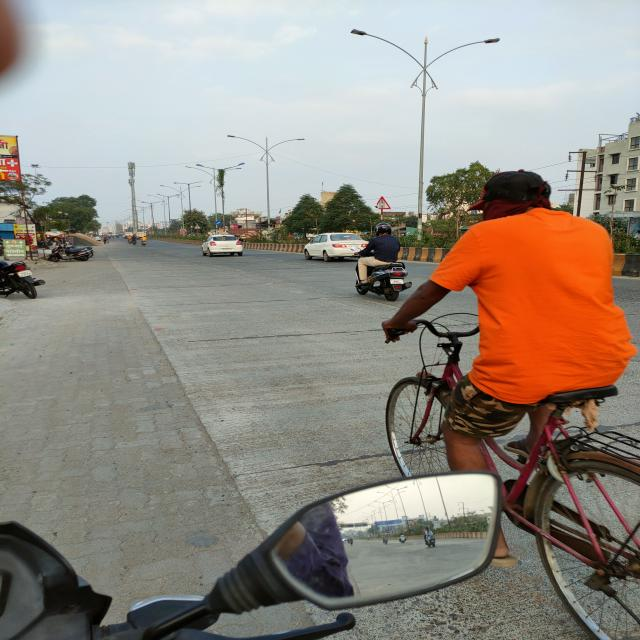GAP_IN_MEDIAN: (377, 196, 391, 209)
